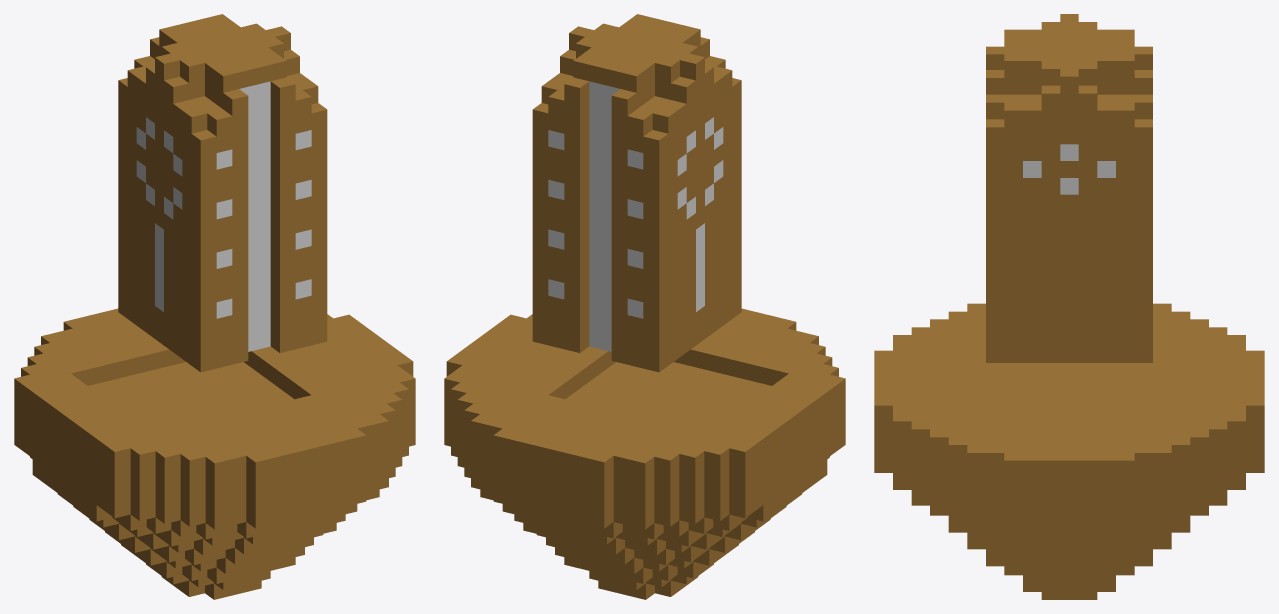
Rendered from landElement.obj.
3 renders of one model, left to right at view 1: azimuth 30°, elevation 25°; view 2: azimuth 150°, elevation 25°; view 3: azimuth 270°, elevation 25°, orthographic.
Size of the model in its own units: 20 by 32 by 21.
1 material, 1 textured.
